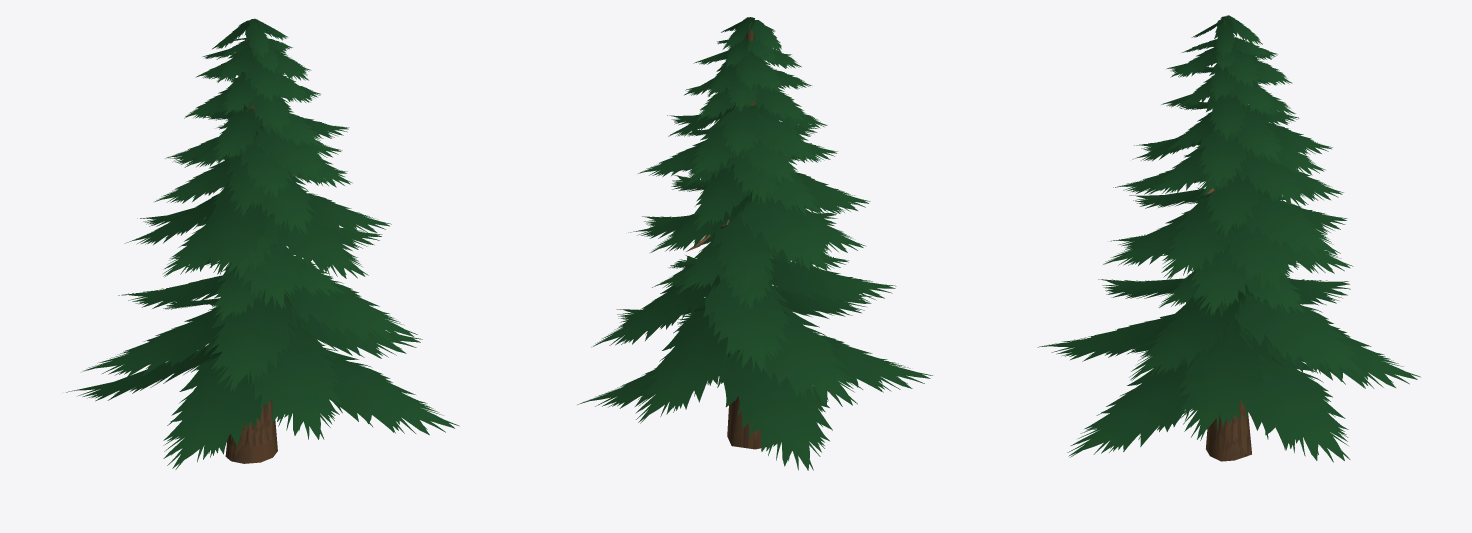
File: SM_Pine_Tree_4.glb
3 views of the same model, side by side, from view 1: azimuth 30°, elevation 25°; view 2: azimuth 150°, elevation 25°; view 3: azimuth 270°, elevation 25° (orthographic). The views are drawn at different scales.
Parts seen in each view (by area): view 1: SM_Pine_Tree_4; view 2: SM_Pine_Tree_4; view 3: SM_Pine_Tree_4.
Boxes of the visible parts, x1,y1,x2,y2 form: SM_Pine_Tree_4: (66, 18, 459, 469); SM_Pine_Tree_4: (577, 17, 932, 470); SM_Pine_Tree_4: (1037, 15, 1420, 462).
Bounding box in the file's own units: 1.54 × 1.65 × 1.61.
Materials: 2 (2 with a texture image).
